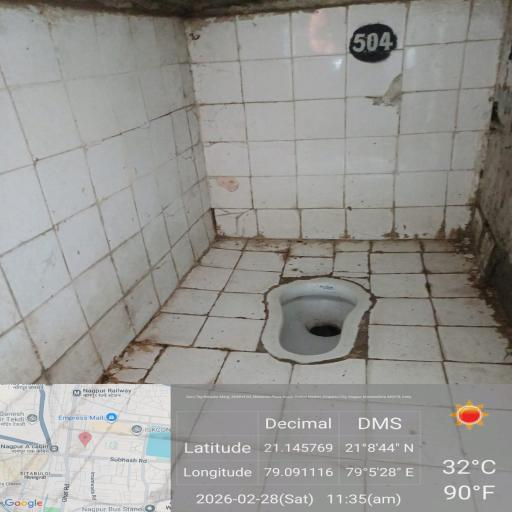dirty_floor: (0, 0, 500, 54)
partial_dirty_floor: (0, 254, 263, 384), (142, 43, 296, 249), (310, 61, 512, 207), (0, 82, 129, 247), (188, 214, 496, 274), (375, 268, 512, 389)
partial_dirty_indian: (268, 276, 358, 362)
